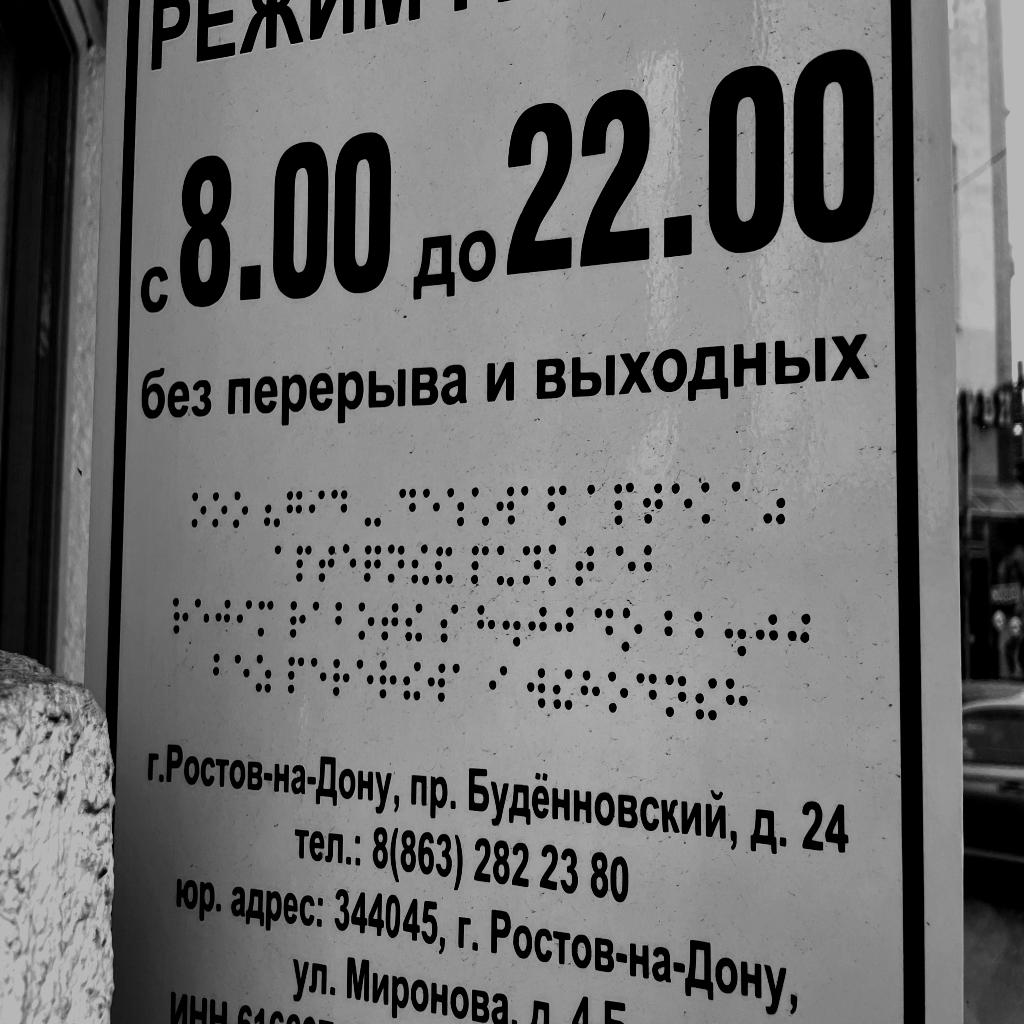_n: (665, 673, 686, 719), (522, 544, 540, 585), (387, 544, 405, 583)
_y: (496, 544, 514, 588)
a: (731, 480, 754, 525), (587, 484, 607, 525), (521, 485, 539, 525), (452, 663, 470, 700), (312, 601, 330, 637), (275, 544, 292, 580)
b: (335, 601, 353, 640), (213, 654, 230, 688)
ch: (364, 544, 381, 583)
d: (637, 672, 658, 717), (595, 606, 613, 651), (399, 487, 417, 526), (330, 489, 348, 526)
defis: (364, 491, 381, 528)
e: (671, 482, 693, 528), (355, 659, 374, 699), (422, 487, 440, 526), (342, 543, 358, 583), (194, 597, 210, 636), (234, 654, 251, 690), (311, 657, 327, 695)
g: (286, 489, 303, 527)
gh: (215, 599, 231, 637)
i: (488, 665, 507, 705), (308, 490, 326, 528), (237, 599, 252, 635)
iKratkoe: (435, 545, 453, 585)
ii: (695, 677, 718, 722), (552, 668, 573, 711), (410, 544, 429, 586), (402, 662, 421, 701), (405, 602, 422, 642)
k: (701, 480, 723, 525), (548, 543, 567, 586)
kavichki1: (264, 489, 280, 529)
kavichki2: (762, 480, 786, 526)
m: (258, 600, 274, 637)
o: (622, 606, 643, 652), (608, 670, 629, 714), (357, 601, 376, 640), (233, 490, 249, 530), (213, 491, 227, 529), (192, 492, 206, 528)
p: (613, 482, 634, 526), (471, 544, 489, 585), (288, 656, 305, 694), (296, 544, 312, 583)
r: (332, 658, 350, 698), (172, 596, 189, 635), (380, 661, 397, 700), (290, 600, 306, 639)
s: (440, 603, 458, 644)
sh: (447, 487, 465, 528)
t: (643, 482, 663, 526), (575, 545, 595, 587), (381, 602, 399, 641), (318, 544, 335, 583)
tochka: (724, 611, 747, 658), (503, 606, 521, 647)
v: (496, 486, 516, 526), (528, 667, 546, 709), (428, 663, 445, 703)
x: (725, 677, 748, 726), (581, 671, 601, 713)
ya: (548, 485, 567, 526)
yo: (472, 486, 490, 527)
z: (256, 654, 271, 694)
